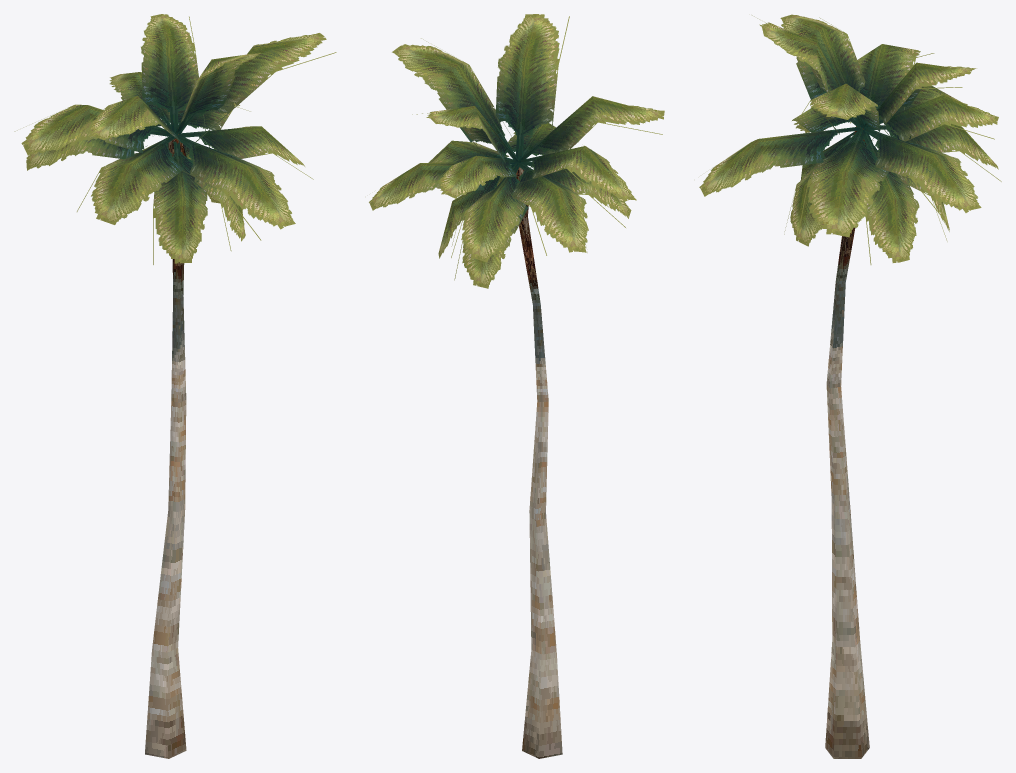
The model's file is stage-sanf-p2-61.glb.
The picture shows the model from 3 angles, left to right: view 1: azimuth 30°, elevation 25°; view 2: azimuth 150°, elevation 25°; view 3: azimuth 270°, elevation 25°; orthographic projection. The views are drawn at different scales.
Size of the model in its own units: 9.76 by 23.98 by 8.95.
Materials: 1 (1 with a texture image).
